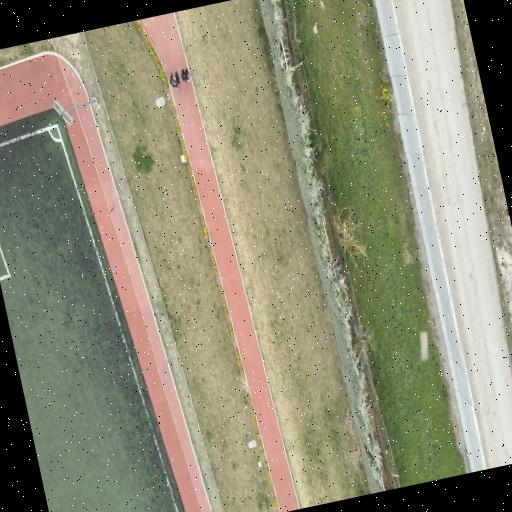person: (169, 74, 177, 89), (180, 69, 189, 80), (174, 71, 179, 83)
